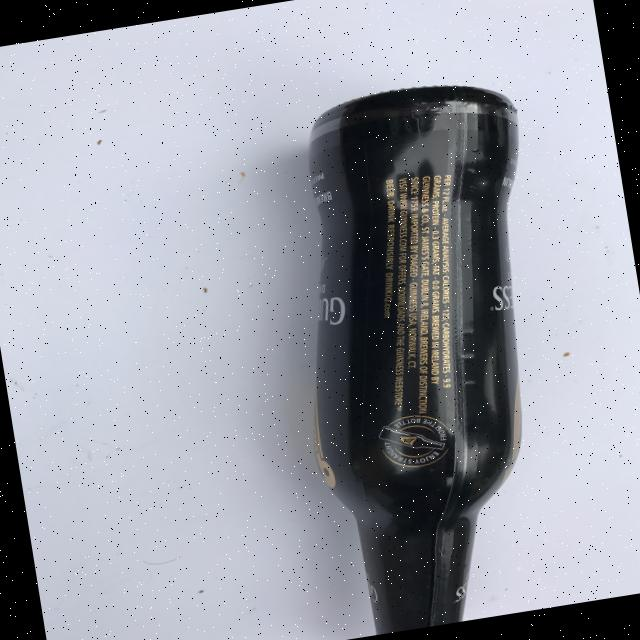glass: (260, 70, 594, 639)
